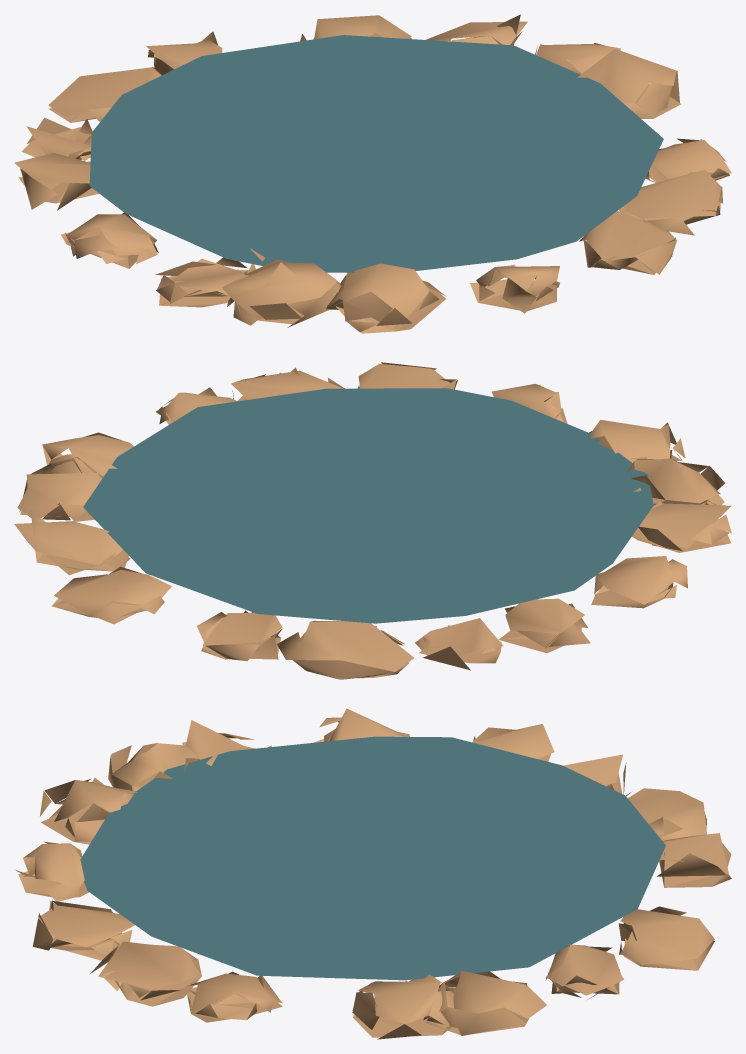
File: oasis-pool-lod1.glb
3 views of the same model, one above another, from view 1: azimuth 30°, elevation 25°; view 2: azimuth 150°, elevation 25°; view 3: azimuth 270°, elevation 25° (orthographic). The views are drawn at different scales.
Parts seen in each view (by area): view 1: oasis-pool-water; view 2: oasis-pool-water; view 3: oasis-pool-water.
Boxes of the visible parts, x1=… form: oasis-pool-water: x1=14, y1=14, x2=731, y2=333; oasis-pool-water: x1=14, y1=362, x2=731, y2=679; oasis-pool-water: x1=14, y1=708, x2=731, y2=1039.
Size of the model in its own units: 9.8 by 0.736 by 9.5.
